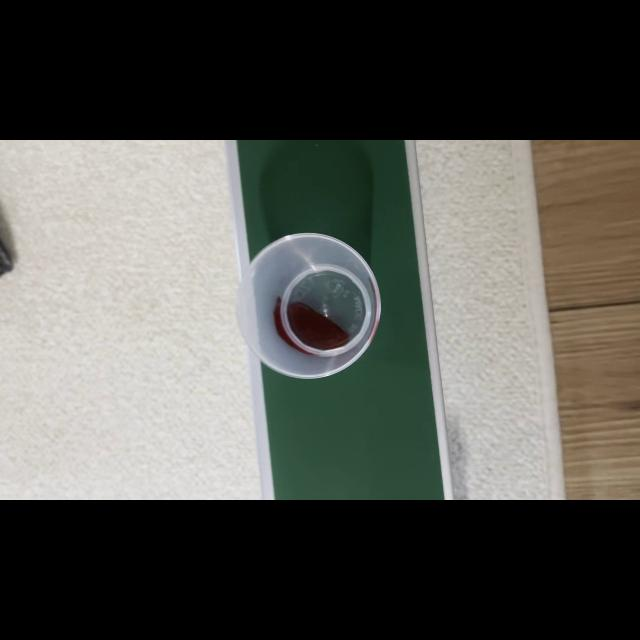dirty: (237, 232, 379, 380)
